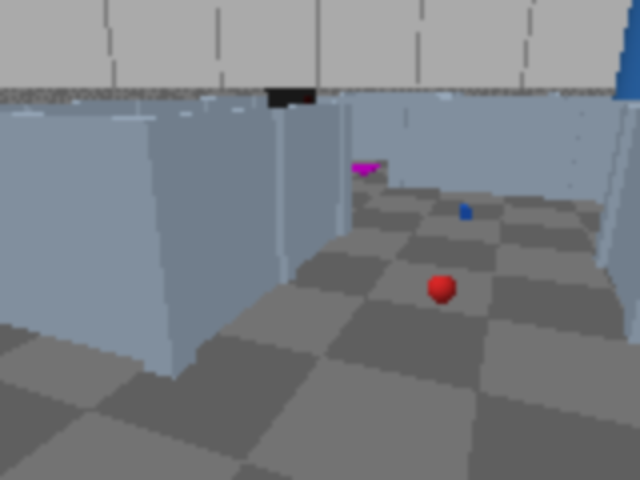person: (598, 0, 638, 194)
puck: (420, 268, 464, 311)
